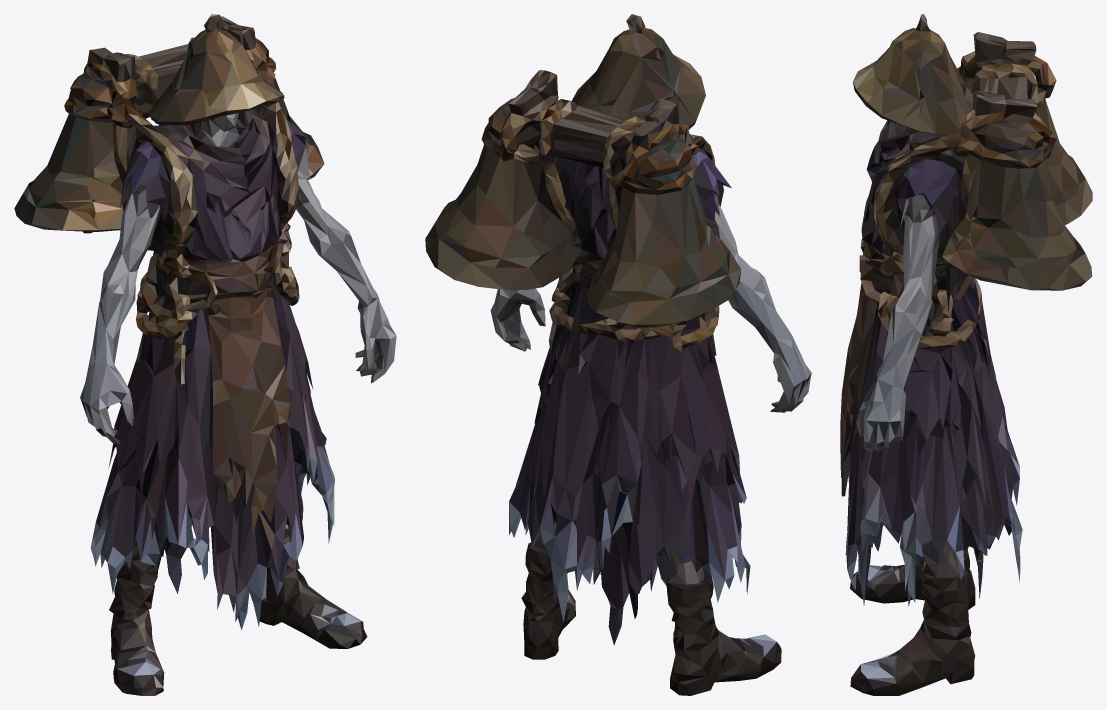
Rendered from bellringer.glb.
3 views of the same model, side by side, from view 1: azimuth 30°, elevation 25°; view 2: azimuth 150°, elevation 25°; view 3: azimuth 270°, elevation 25° (orthographic). The views are drawn at different scales.
Parts seen in each view (by area): view 1: tripo_node_310d044a-0a1e-4f0f-81b7-28545d86ea24; view 2: tripo_node_310d044a-0a1e-4f0f-81b7-28545d86ea24; view 3: tripo_node_310d044a-0a1e-4f0f-81b7-28545d86ea24.
Boxes of the visible parts, x1,y1,x2,y2 form: tripo_node_310d044a-0a1e-4f0f-81b7-28545d86ea24: (14,14,396,695); tripo_node_310d044a-0a1e-4f0f-81b7-28545d86ea24: (425,14,811,695); tripo_node_310d044a-0a1e-4f0f-81b7-28545d86ea24: (840,14,1092,695).
Size of the model in its own units: 1.05 by 2.1 by 0.7687.
